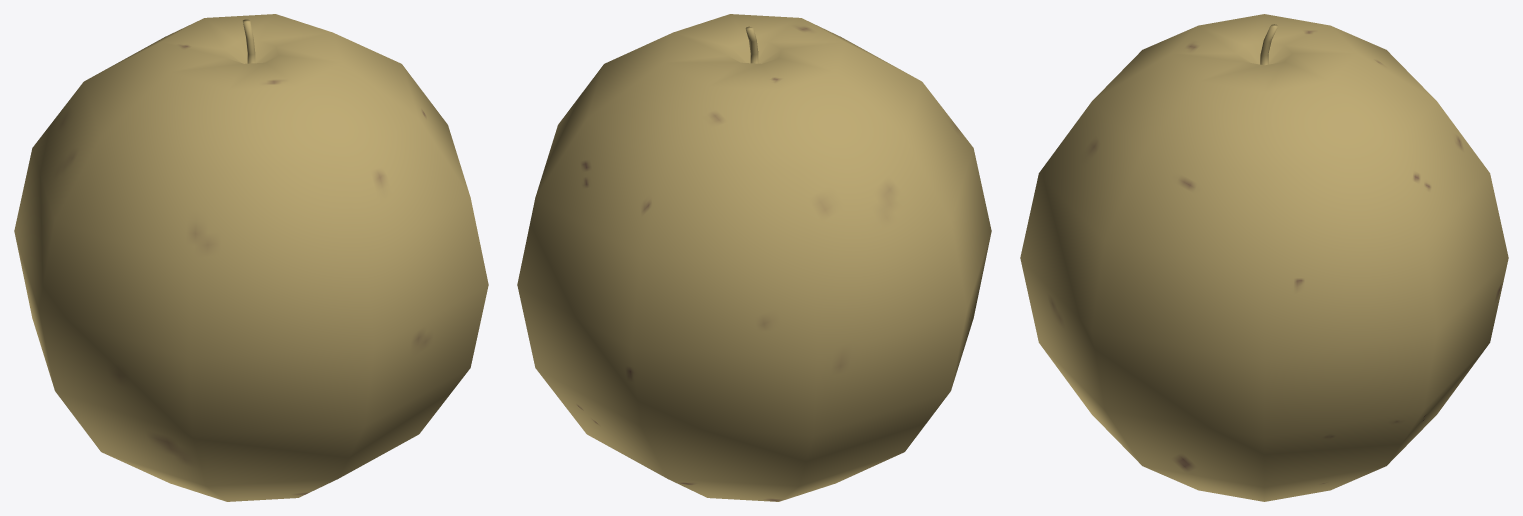
Rendered from pear_before_cooking.fbx.
The picture shows the model from 3 angles, left to right: view 1: azimuth 30°, elevation 25°; view 2: azimuth 150°, elevation 25°; view 3: azimuth 270°, elevation 25°; orthographic projection.
Parts seen in each view (by area): view 1: pear_before_cooking; view 2: pear_before_cooking; view 3: pear_before_cooking.
Part boxes in pixels (x1=…): pear_before_cooking: x1=14, y1=14, x2=488, y2=501; pear_before_cooking: x1=517, y1=14, x2=991, y2=501; pear_before_cooking: x1=1020, y1=14, x2=1508, y2=501.
Size of the model in its own units: 6.3 by 6.21 by 6.3.
1 material, 1 textured.
